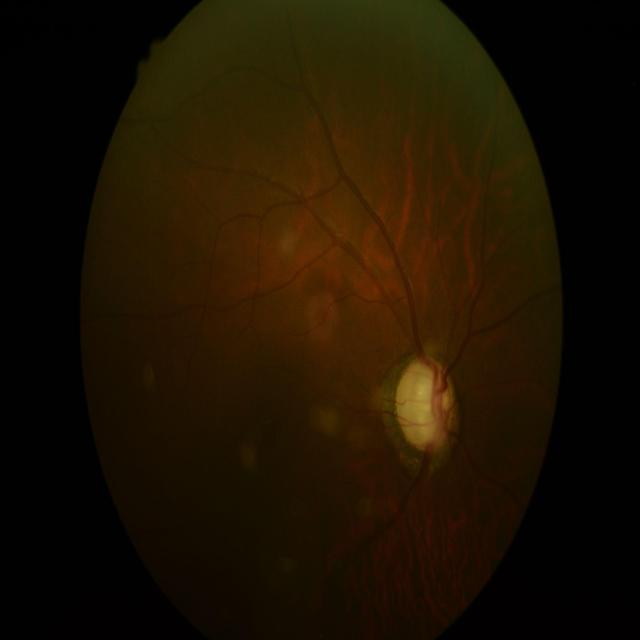cup: (396, 359, 452, 448)
disk: (394, 356, 458, 452)
